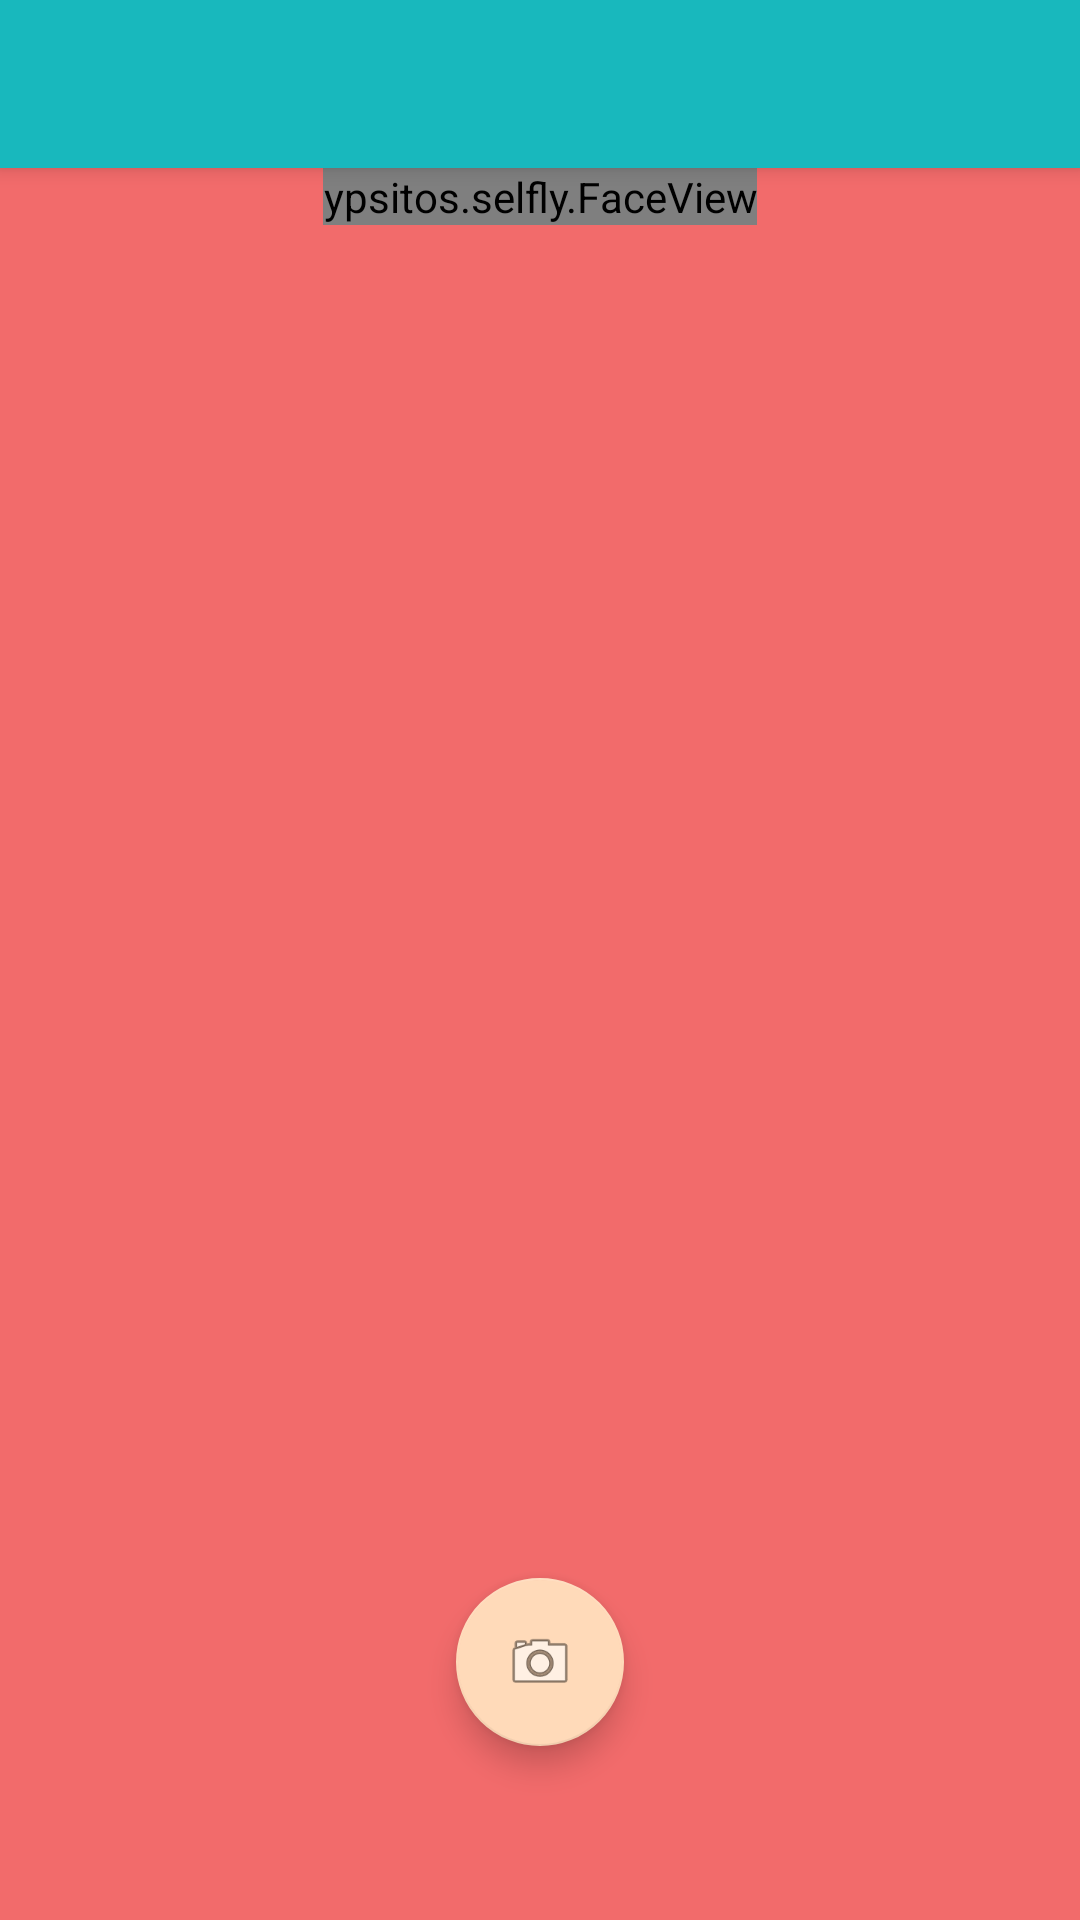

Icons on this 1080*1920 Android screen, each with its box as box(x1, y1, x2, y2):
camera: box(456, 1578, 624, 1746)
